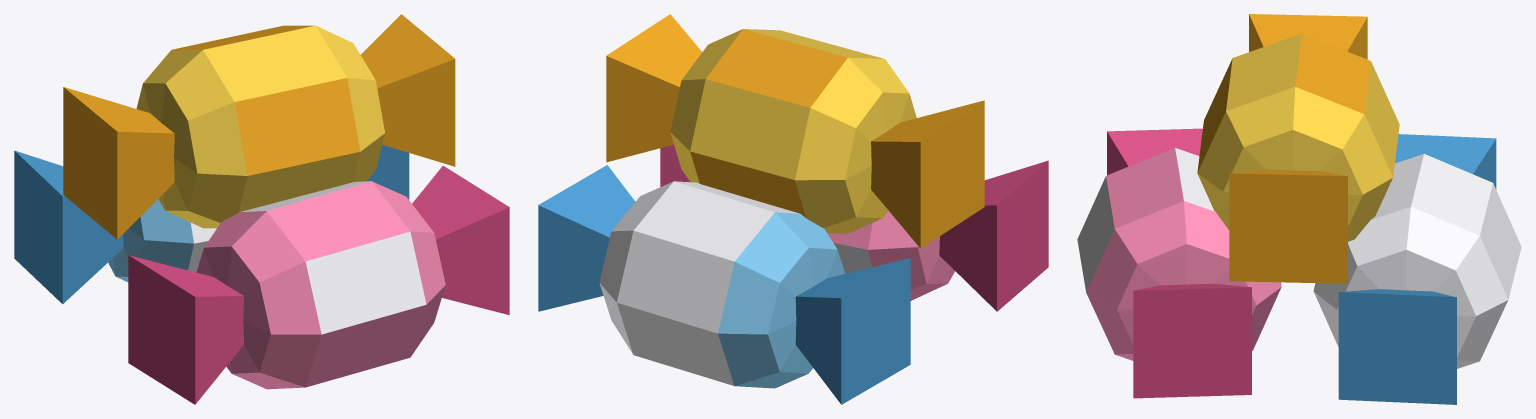
The model's file is candy-pile-1x1.glb.
3 renders of one model, left to right at view 1: azimuth 30°, elevation 25°; view 2: azimuth 150°, elevation 25°; view 3: azimuth 270°, elevation 25°, orthographic.
Parts seen in each view (by area): view 1: candy-pile-1x1; view 2: candy-pile-1x1; view 3: candy-pile-1x1.
Boxes of the visible parts, left/top/right/bottom form: candy-pile-1x1: left=14, top=14, right=509, bottom=404; candy-pile-1x1: left=538, top=14, right=1048, bottom=404; candy-pile-1x1: left=1077, top=14, right=1521, bottom=404.
Bounding box in the file's own units: 0.8122 × 0.6524 × 0.9.
Materials: 1 (1 with a texture image).
